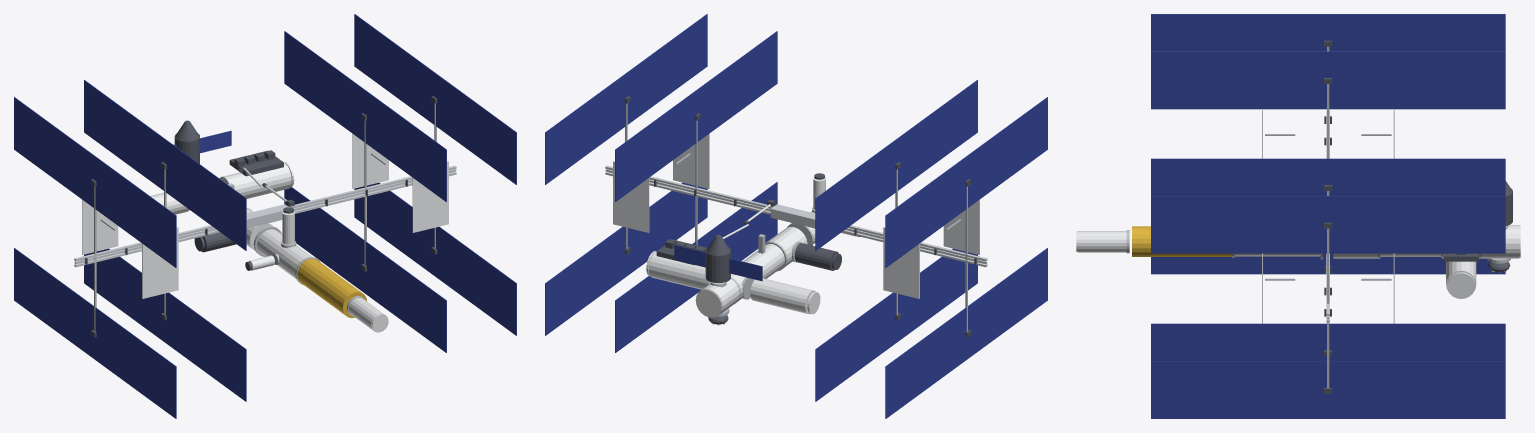
Rendered from SpaceStation_Lego.fbx.
The picture shows the model from 3 angles, left to right: view 1: azimuth 30°, elevation 25°; view 2: azimuth 150°, elevation 25°; view 3: azimuth 270°, elevation 25°; orthographic projection. The views are drawn at different scales.
Parts seen in each view (by area): view 1: SAW_P4_PnHA, SAW_P4_PnLA, SAW_P3_PnHA, SAW_S3_PnHA, SAW_S3_PnLA, SAW_P3_PnLA, SAW_S4_PnHA, SAW_S4_PnLA, SAW_S3_PnHF, SAW_S4_PnHF, SAW_P3_PnHF, SAW_P4_PnHF (+18 smaller); view 2: SAW_P4_PnHF, SAW_P4_PnLF, SAW_P3_PnHF, SAW_S3_PnHF, SAW_P3_PnLF, SAW_S4_PnHF, SAW_S4_PnLF, SAW_S3_PnHA, SAW_S4_PnHA, SAW_P3_PnHA, SAW_P4_PnHA, SAW_P4_PnLA (+22 smaller); view 3: SAW_P3_PnHF, SAW_P3_PnHA, SAW_S4_PnHF, SAW_S4_PnLF, SAW_S4_PnHA, SAW_S4_PnLA, SAW_S3_PnLF, SAW_S3_PnLA, SAW_P4_PnHF, SAW_S3_PnHF, SAW_P4_PnHA, SAW_S3_PnHA (+7 smaller).
Boxes of the visible parts, <box> form: SAW_P4_PnHA: <box>95,156,176,267</box>; SAW_P4_PnLA: <box>95,307,176,418</box>; SAW_P3_PnHA: <box>165,139,246,250</box>; SAW_S3_PnHA: <box>365,90,446,201</box>; SAW_S3_PnLA: <box>365,241,446,352</box>; SAW_P3_PnLA: <box>165,292,246,401</box>; SAW_S4_PnHA: <box>435,73,516,184</box>; SAW_S4_PnLA: <box>435,226,516,335</box>; SAW_S3_PnHF: <box>284,31,365,141</box>; SAW_S4_PnHF: <box>354,14,435,124</box>; SAW_P3_PnHF: <box>84,80,165,190</box>; SAW_P4_PnHF: <box>14,97,94,207</box>; SAW_P4_PnHF: <box>885,156,966,267</box>; SAW_P4_PnLF: <box>885,307,966,418</box>; SAW_P3_PnHF: <box>815,139,896,250</box>; SAW_S3_PnHF: <box>615,90,696,201</box>; SAW_P3_PnLF: <box>815,292,896,401</box>; SAW_S4_PnHF: <box>545,73,626,184</box>; SAW_S4_PnLF: <box>545,226,626,335</box>; SAW_S3_PnHA: <box>696,31,777,141</box>; SAW_S4_PnHA: <box>626,14,707,124</box>; SAW_P3_PnHA: <box>896,80,977,190</box>; SAW_P4_PnHA: <box>967,97,1047,207</box>; SAW_P4_PnLA: <box>967,248,1047,359</box>; SAW_P3_PnHF: <box>1328,51,1505,109</box>; SAW_P3_PnHA: <box>1151,51,1328,109</box>; SAW_S4_PnHF: <box>1328,196,1505,253</box>; SAW_S4_PnLF: <box>1328,361,1505,418</box>; SAW_S4_PnHA: <box>1151,196,1328,253</box>; SAW_S4_PnLA: <box>1151,361,1328,418</box>; SAW_S3_PnLF: <box>1329,323,1505,361</box>; SAW_S3_PnLA: <box>1151,323,1326,361</box>; SAW_P4_PnHF: <box>1328,14,1505,51</box>; SAW_S3_PnHF: <box>1328,158,1505,195</box>; SAW_P4_PnHA: <box>1151,14,1328,51</box>; SAW_S3_PnHA: <box>1151,158,1328,195</box>.
Bounding box in the file's own units: 38 × 35.08 × 19.4.
